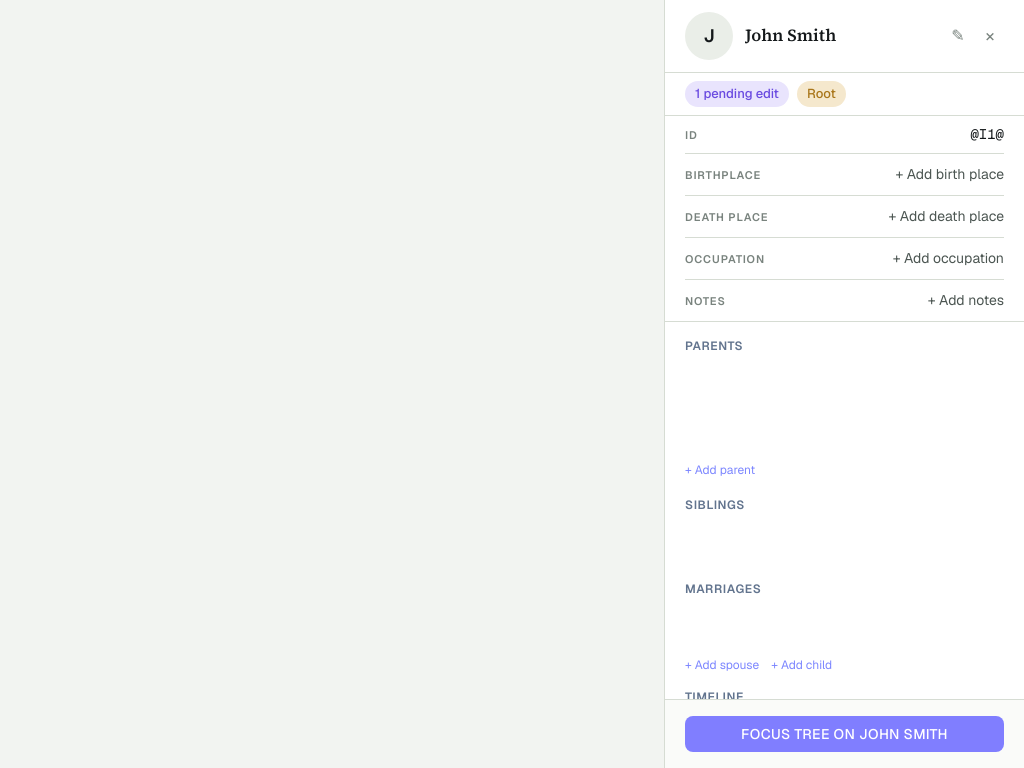
Test case: PersonDrawer › Edit list revert — "Your edits to this person" › shows conflictingChange.detail from a 409 revert response as the edit action error
What coordinates should you click on to do the following:
click the button with test id "person-drawer-edit"
I would click on:
 (958, 36)
Its box is [944,22,972,50].
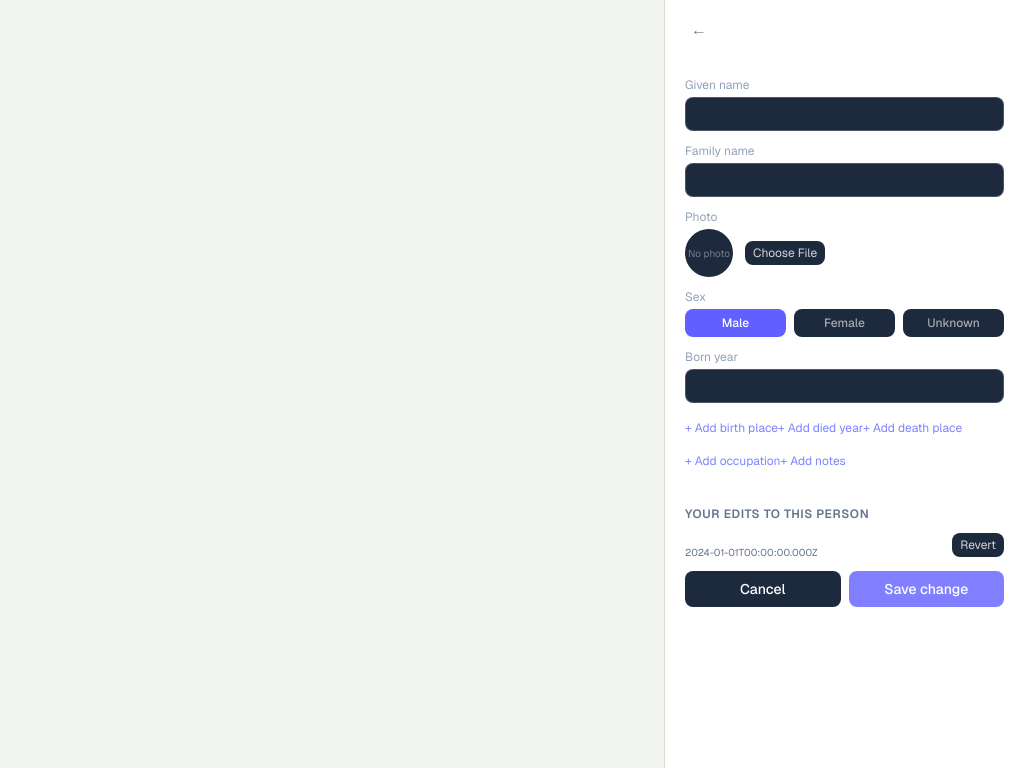
Expected: the button with test id "your-edit-revert-chg-upd-1" is shown
What coordinates should you click on to do the following:
click the button with test id "your-edit-revert-chg-upd-1"
I would click on:
 (978, 545)
Its box is [952,533,1004,557].
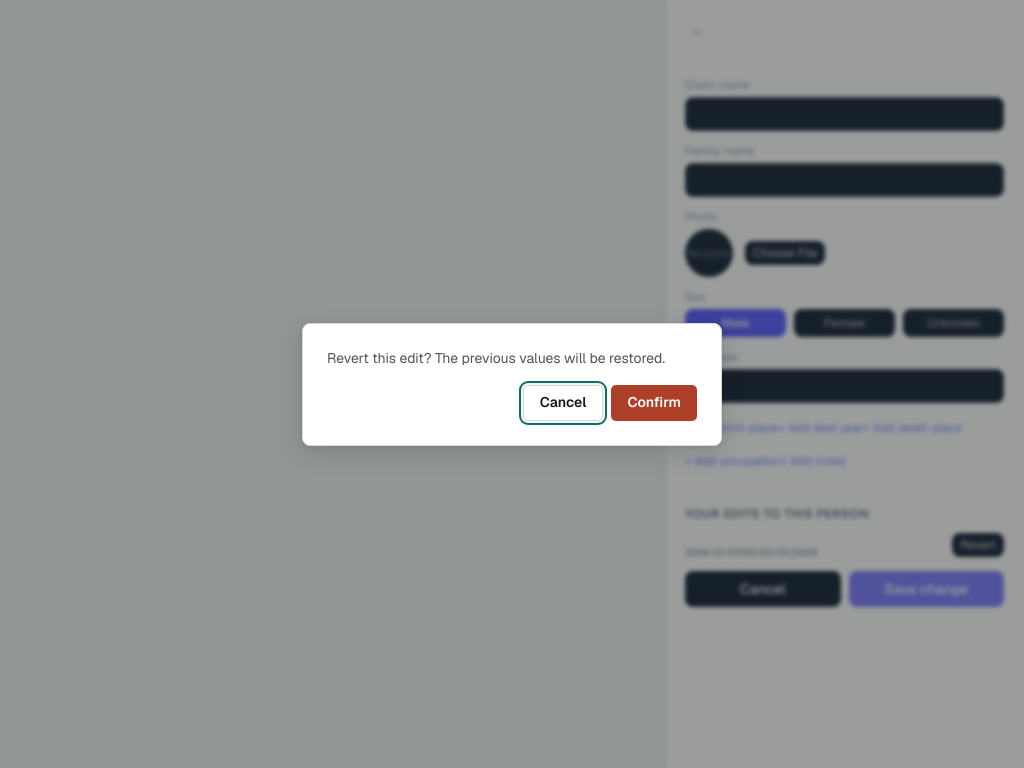
What coordinates should you click on to do the following:
click the button with test id "confirm-dialog-confirm"
I would click on:
 (654, 402)
Its box is [612,384,697,420].
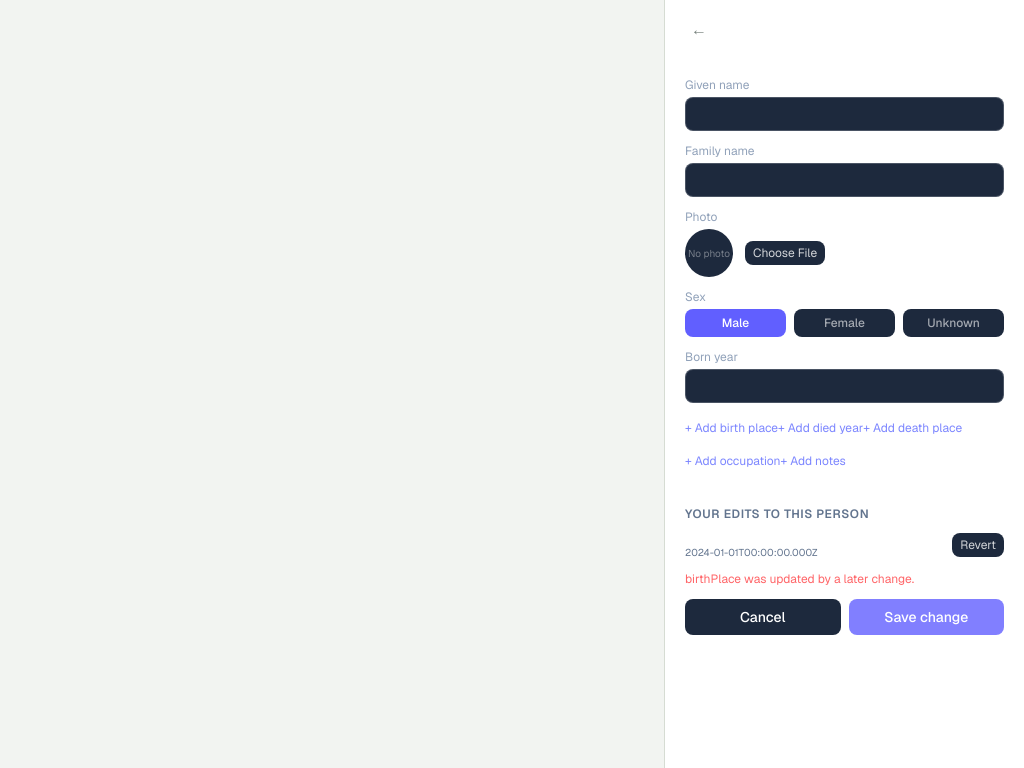
Expected: the list item with test id "your-edit-chg-upd-1" is shown, [685,530,1004,559]
Expected: the text with test id "person-drawer-edit-action-error" reads "birthPlace was updated by a later change.", [685,571,914,587]
